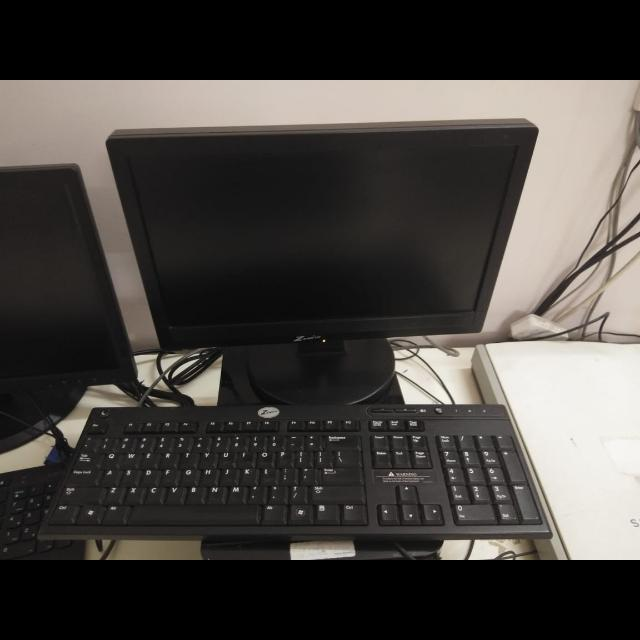Computer-Keyboard: (28, 393, 566, 551)
Flat-Panel-Monitor: (99, 112, 546, 394)
